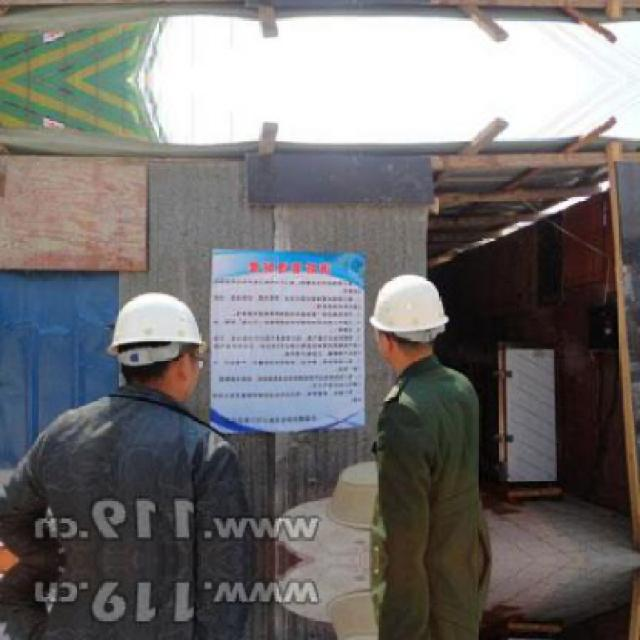helmet: (108, 284, 228, 404), (358, 260, 456, 375)
